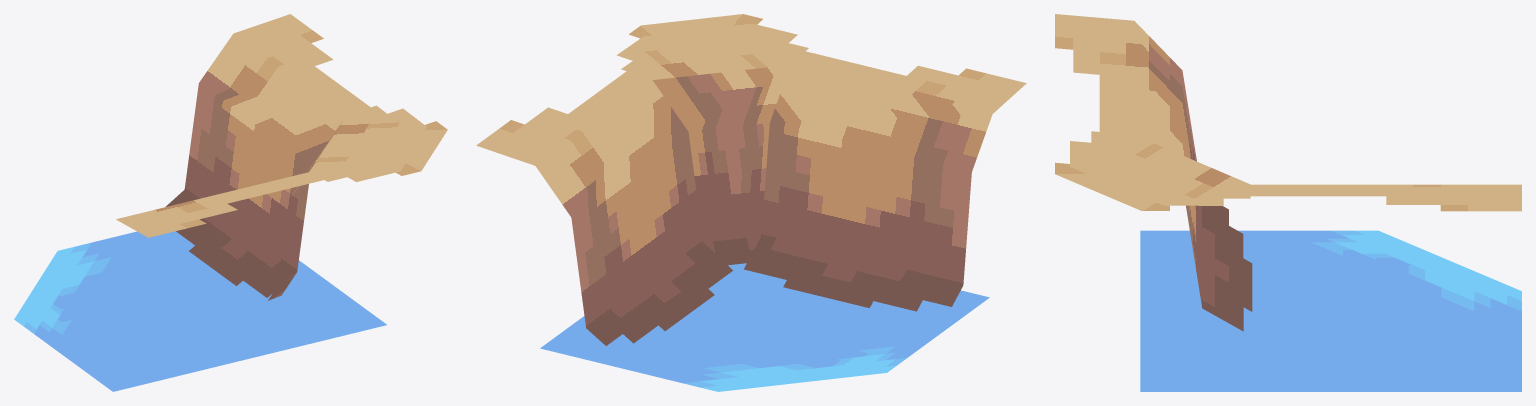
Rendered from berge-mare-rom-34.glb.
The picture shows the model from 3 angles, left to right: view 1: azimuth 30°, elevation 25°; view 2: azimuth 150°, elevation 25°; view 3: azimuth 270°, elevation 25°; orthographic projection. The views are drawn at different scales.
Size of the model in its own units: 1.22 by 0.627 by 1.22.
Materials: 2 (2 with a texture image).
